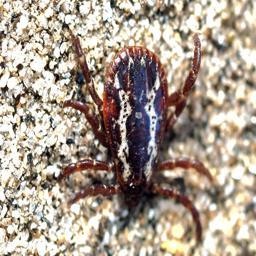Dermacentor variabilis: (58, 33, 217, 238)
